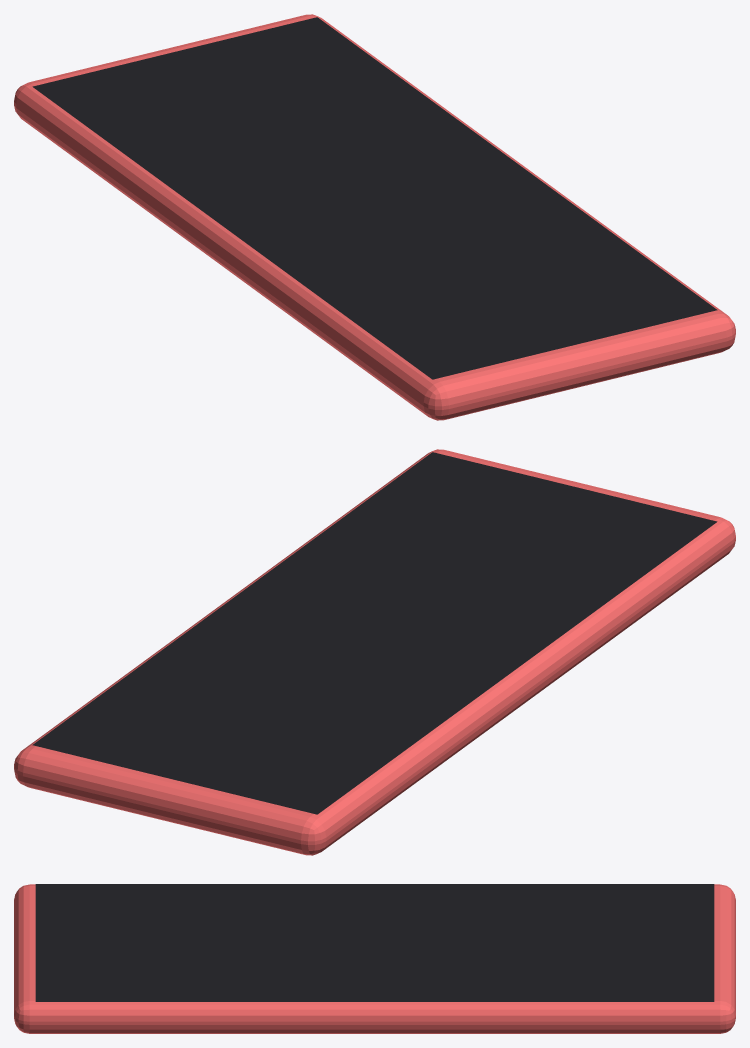
File: Phone_814.glb
3 views of the same model, one above another, from view 1: azimuth 30°, elevation 25°; view 2: azimuth 150°, elevation 25°; view 3: azimuth 270°, elevation 25° (orthographic). The views are drawn at different scales.
Parts seen in each view (by area): view 1: Phone_Screen, Phone_Body; view 2: Phone_Screen, Phone_Body; view 3: Phone_Screen, Phone_Body.
Boxes of the visible parts, x1,y1,x2,y2 form: Phone_Screen: (32, 17, 717, 379); Phone_Body: (14, 14, 735, 420); Phone_Screen: (32, 452, 717, 814); Phone_Body: (14, 449, 735, 855); Phone_Screen: (35, 884, 714, 1001); Phone_Body: (14, 884, 735, 1033).
Bounding box in the file's own units: 0.0714 × 0.0083 × 0.1699.
